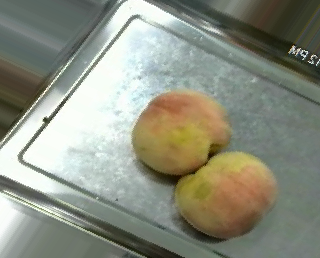Peach: (176, 149, 277, 239), (133, 88, 229, 174)
